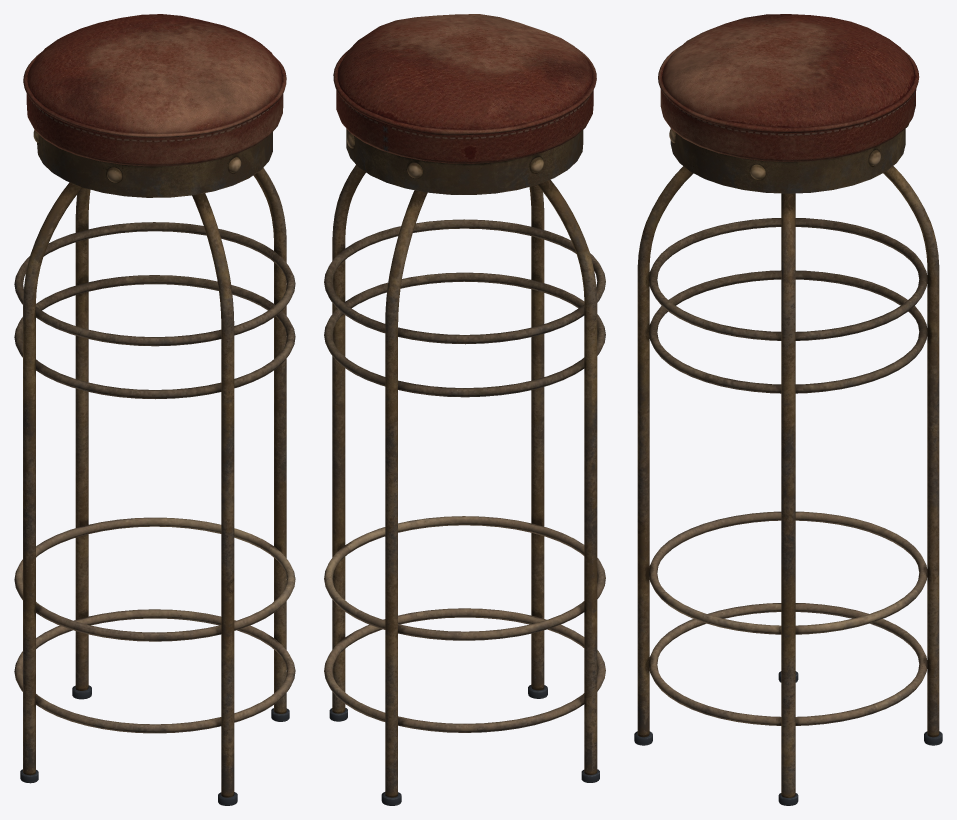
File: sgabello_metallo.glb
3 renders of one model, left to right at view 1: azimuth 30°, elevation 25°; view 2: azimuth 150°, elevation 25°; view 3: azimuth 270°, elevation 25°, orthographic.
Parts seen in each view (by area): view 1: metal_stool_01; view 2: metal_stool_01; view 3: metal_stool_01.
Part boxes in pixels (x1,y1,x2,y2): metal_stool_01: (14,14,295,805); metal_stool_01: (324,14,605,805); metal_stool_01: (634,14,942,805).
Size of the model in its own units: 35.2 by 88.28 by 35.46.
1 material, 1 textured.
